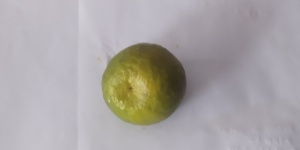BAD: (103, 41, 186, 126)
